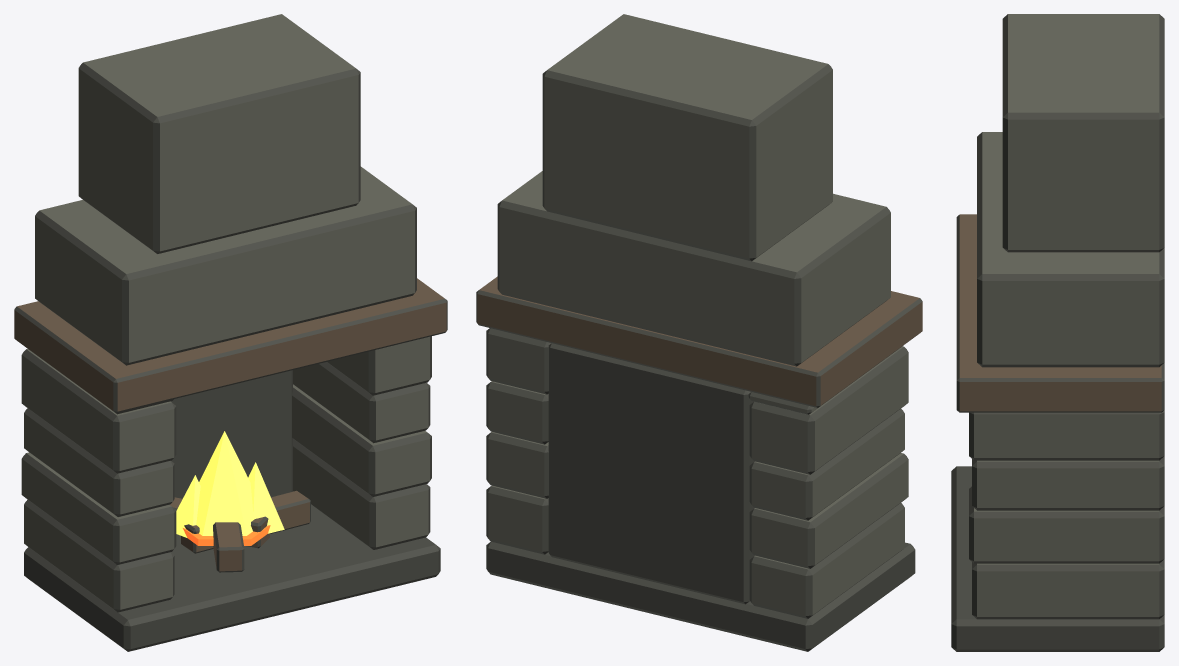
Rendered from hearth.glb.
3 renders of one model, left to right at view 1: azimuth 30°, elevation 25°; view 2: azimuth 150°, elevation 25°; view 3: azimuth 270°, elevation 25°, orthographic. The views are drawn at different scales.
Parts seen in each view (by area): view 1: Hearth; view 2: Hearth; view 3: Hearth.
Part boxes in pixels (<box>): Hearth: <box>14,14,447,651</box>; Hearth: <box>476,14,922,651</box>; Hearth: <box>951,14,1164,651</box>.
Size of the model in its own units: 1.53 by 2.2 by 0.83.
